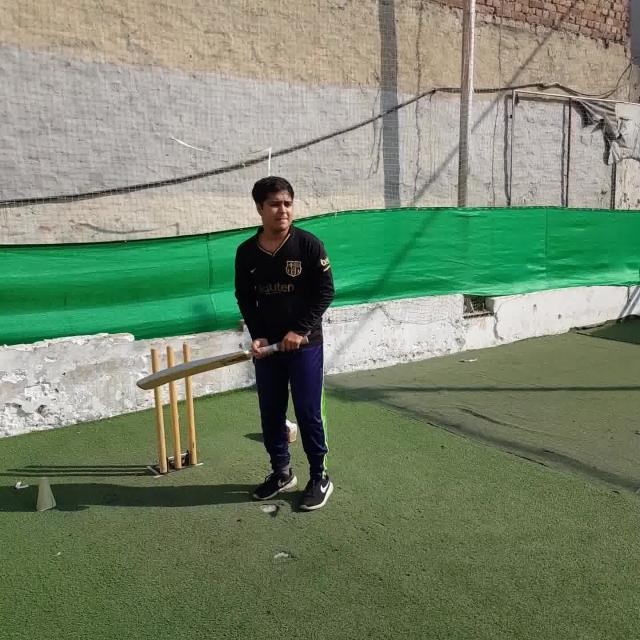bat: (138, 334, 308, 392)
